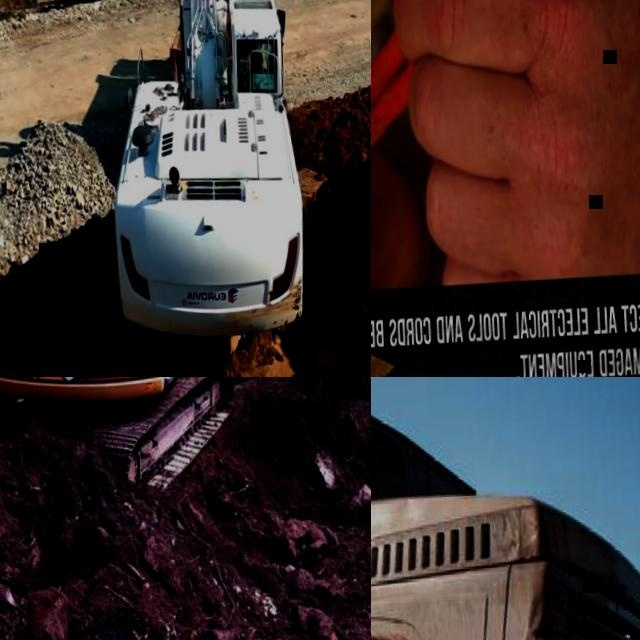Person: (371, 0, 640, 297)
machinery: (92, 0, 312, 341), (371, 377, 640, 640), (0, 377, 241, 514)
